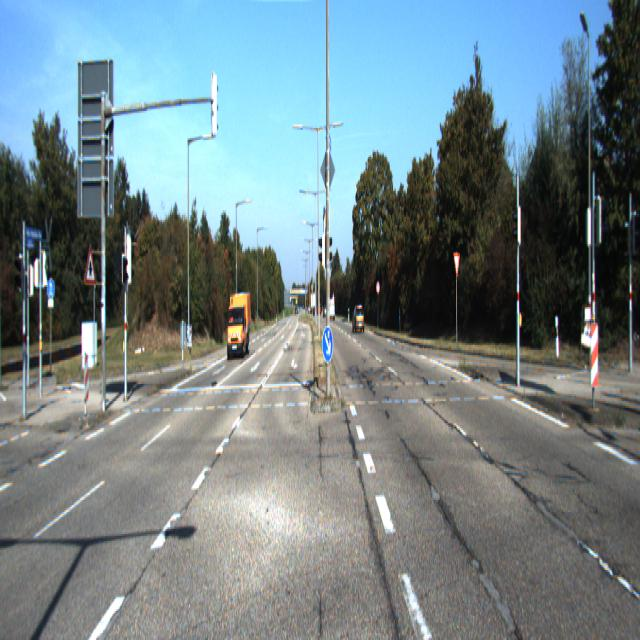Car: (222, 290, 252, 362), (354, 304, 364, 333)
